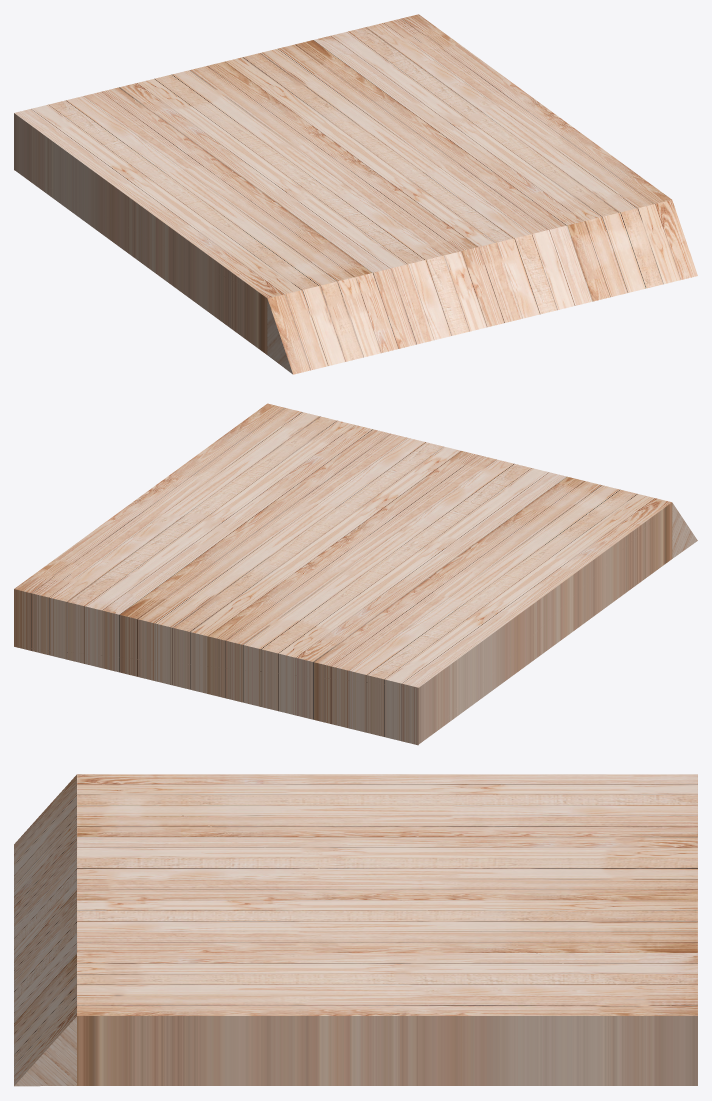
The model's file is tablado3-9.gltf.
The picture shows the model from 3 angles, top to bottom: view 1: azimuth 30°, elevation 25°; view 2: azimuth 150°, elevation 25°; view 3: azimuth 270°, elevation 25°; orthographic projection. The views are drawn at different scales.
Visible parts, largest first — view 1: Plane; view 2: Plane; view 3: Plane.
Boxes of the visible parts, <box> form: Plane: <box>14,14,697,374</box>; Plane: <box>14,403,697,745</box>; Plane: <box>14,774,697,1086</box>.
Bounding box in the file's own units: 2.51 × 0.3417 × 3.
1 material, 1 textured.
